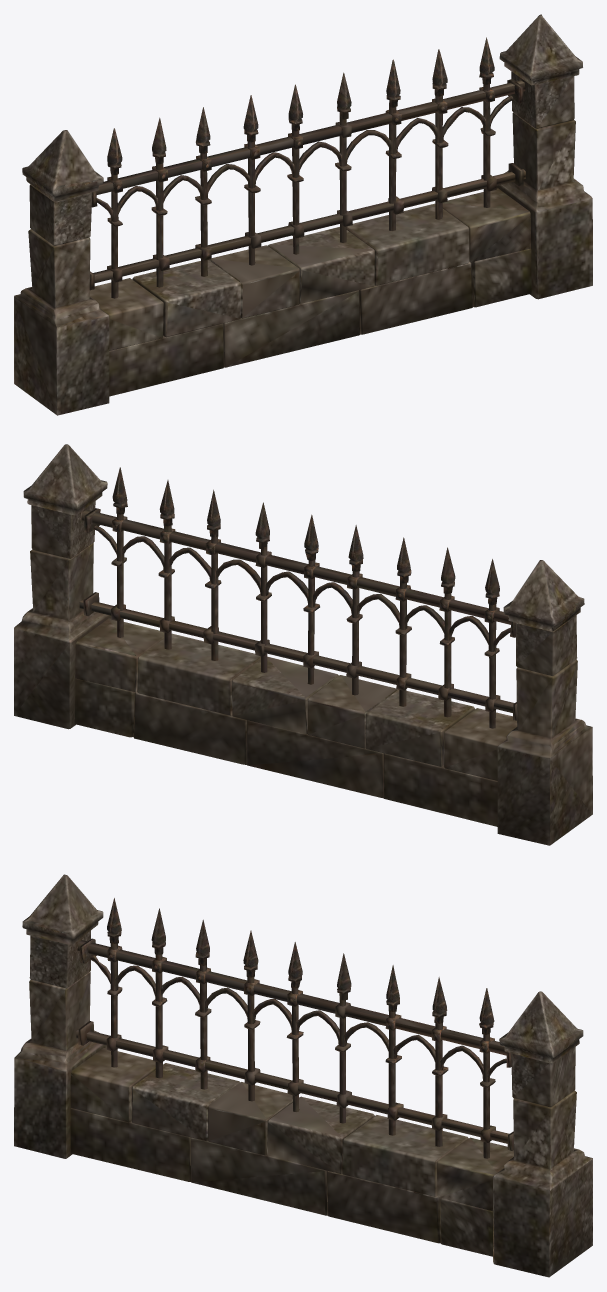
Rendered from h_fence.glb.
3 views of the same model, one above another, from view 1: azimuth 30°, elevation 25°; view 2: azimuth 150°, elevation 25°; view 3: azimuth 330°, elevation 25° (orthographic).
Parts seen in each view (by area): view 1: h_fence; view 2: h_fence; view 3: h_fence.
Boxes of the visible parts, <box> form: h_fence: <box>14,14,592,415</box>; h_fence: <box>14,444,592,845</box>; h_fence: <box>14,874,592,1277</box>.
Size of the model in its own units: 4 by 1.88 by 0.5742.
1 material, 1 textured.
